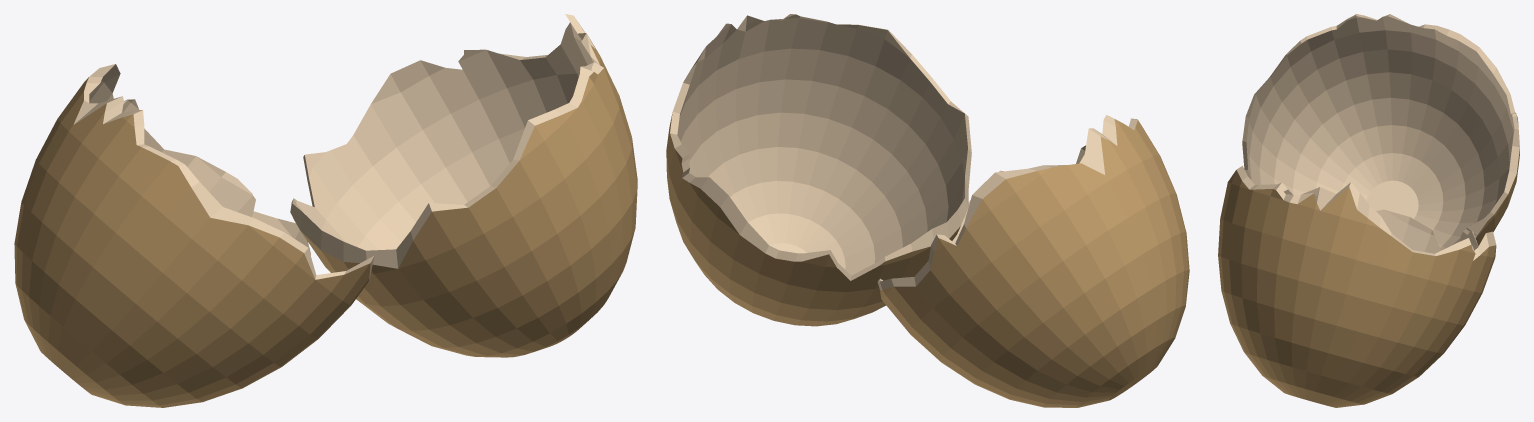
Rendered from coquille_oeuf.fbx.
The picture shows the model from 3 angles, left to right: view 1: azimuth 30°, elevation 25°; view 2: azimuth 150°, elevation 25°; view 3: azimuth 270°, elevation 25°; orthographic projection. The views are drawn at different scales.
Parts seen in each view (by area): view 1: coquille2; view 2: coquille2; view 3: coquille2.
Part boxes in pixels (x1=…): coquille2: x1=14, y1=14, x2=637, y2=407; coquille2: x1=666, y1=14, x2=1189, y2=407; coquille2: x1=1218, y1=14, x2=1519, y2=407.
Size of the model in its own units: 370 by 197 by 217.
